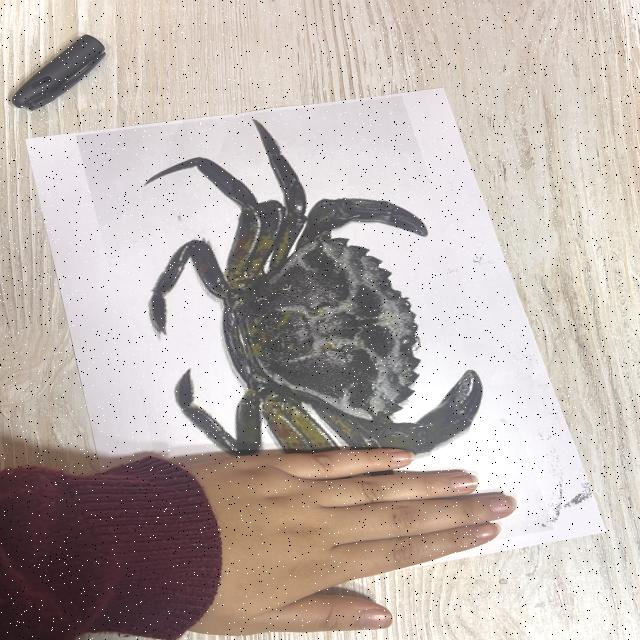European_Green_Crab: (110, 98, 515, 575)
